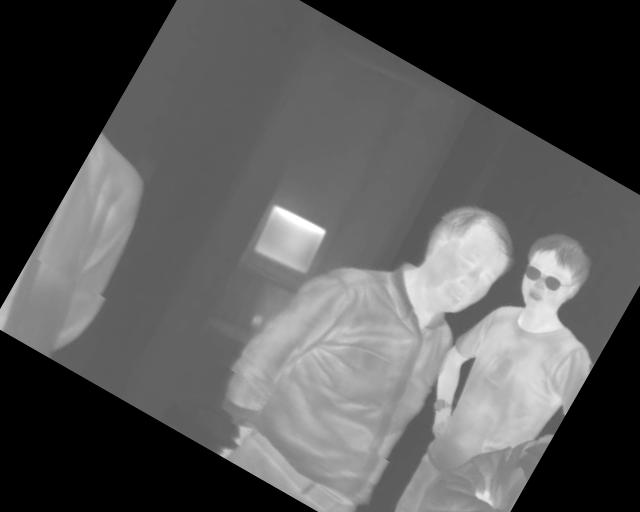face: (398, 190, 529, 330), (504, 221, 602, 326)
